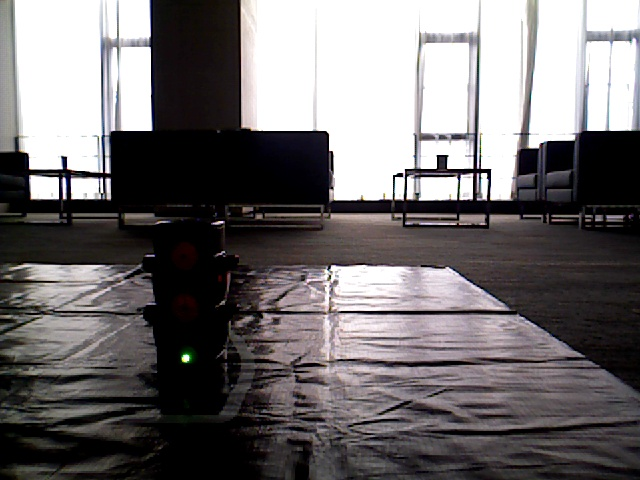green: (161, 221, 217, 366)
